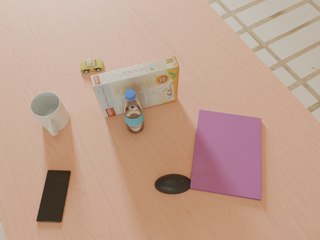book: (190, 110, 261, 200)
bottle: (122, 89, 144, 133)
box: (91, 56, 179, 118)
cup: (30, 92, 70, 136)
mouse: (155, 174, 191, 194)
phone: (37, 170, 71, 222)
toy_car: (80, 58, 104, 73)
